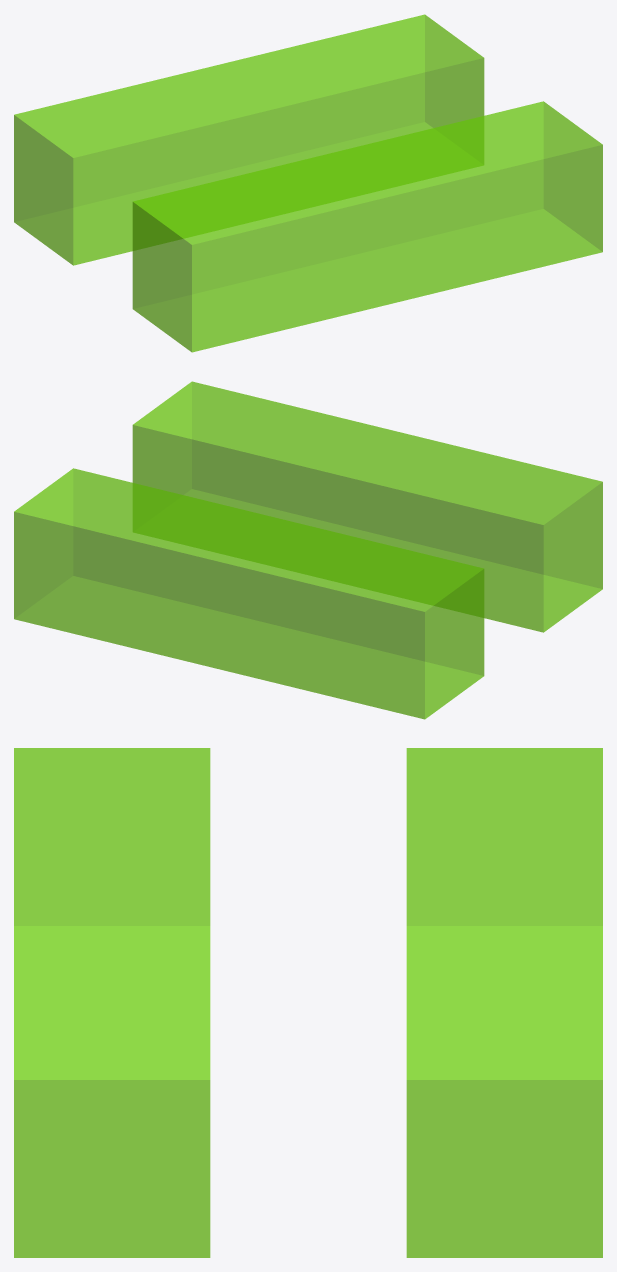
3 views of the same model, one above another, from view 1: azimuth 30°, elevation 25°; view 2: azimuth 150°, elevation 25°; view 3: azimuth 270°, elevation 25° (orthographic). The views are drawn at different scales.
Visible parts, largest first — view 1: bullet_shape, bullet_shape.001; view 2: bullet_shape.001, bullet_shape; view 3: bullet_shape, bullet_shape.001.
Boxes of the visible parts, x1,y1,x2,y2 form: bullet_shape: (132,101,602,352); bullet_shape.001: (14,14,484,265); bullet_shape.001: (14,468,484,719); bullet_shape: (132,381,602,632); bullet_shape: (14,748,210,1257); bullet_shape.001: (406,748,602,1257).
Size of the model in its own units: 8 by 2 by 6.
